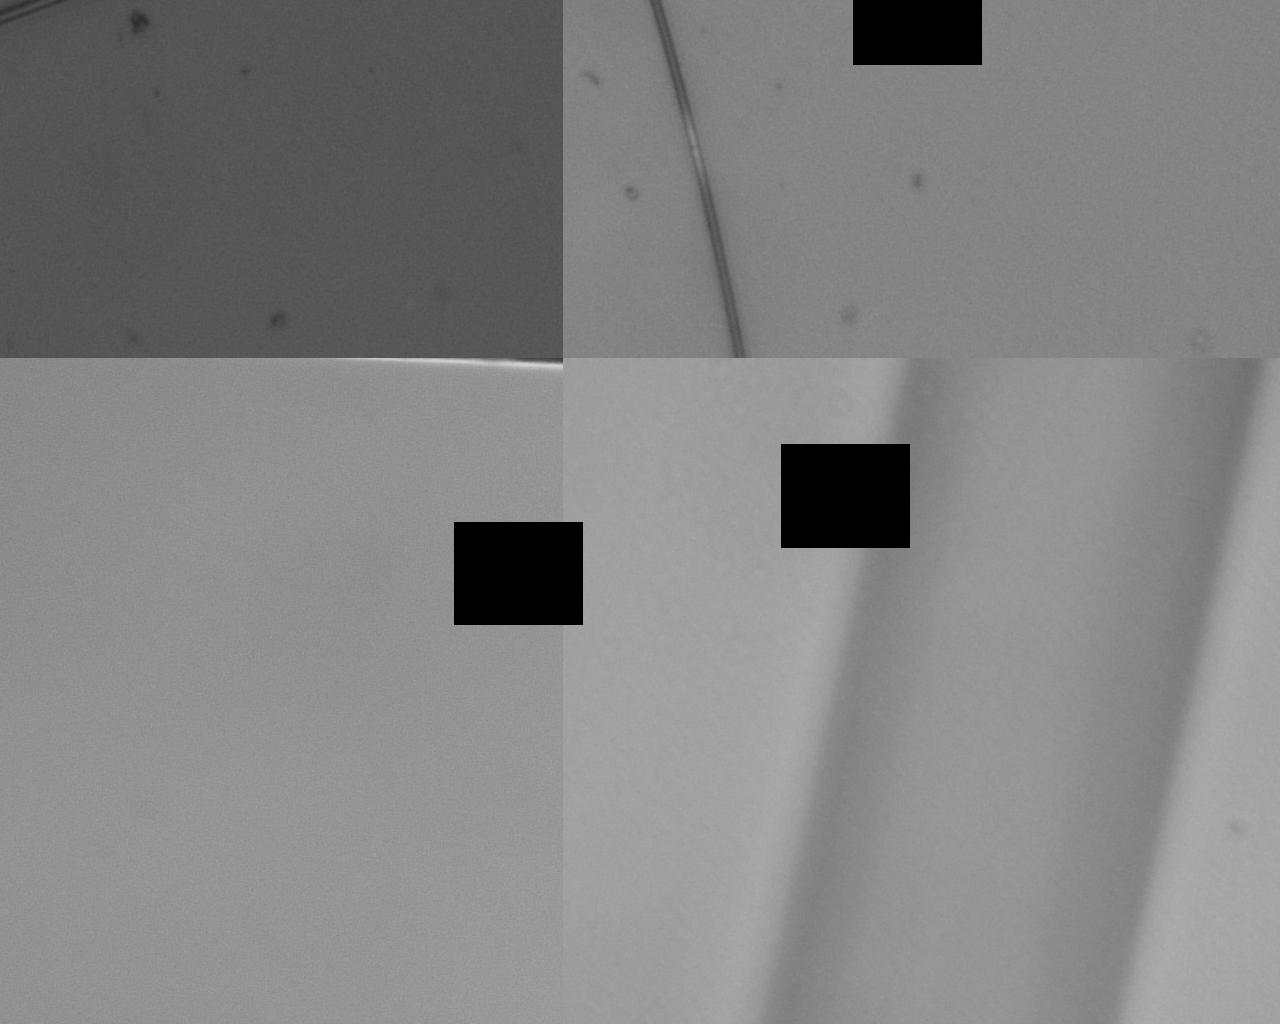fiber: (562, 0, 765, 1024)
